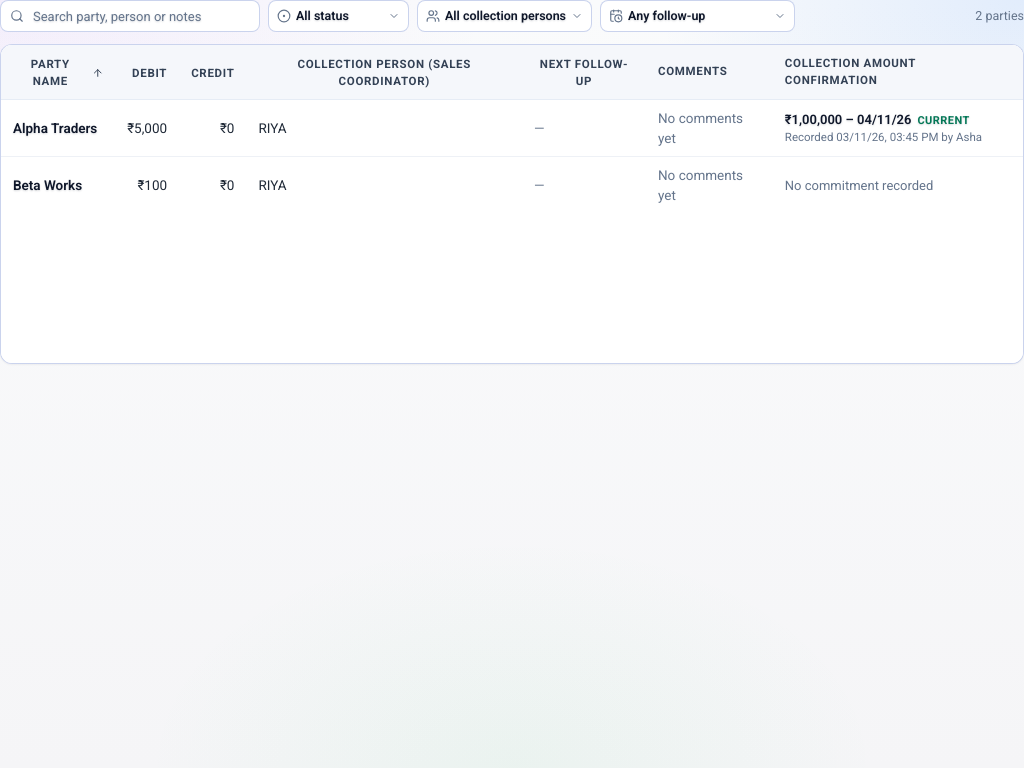
Test: the column and the popup show the same latest record › the Tracker cell and the popup's Commitment History render identical text for the latest commitment
Click the button "Alpha Traders": (55, 128) [13,118,97,138]
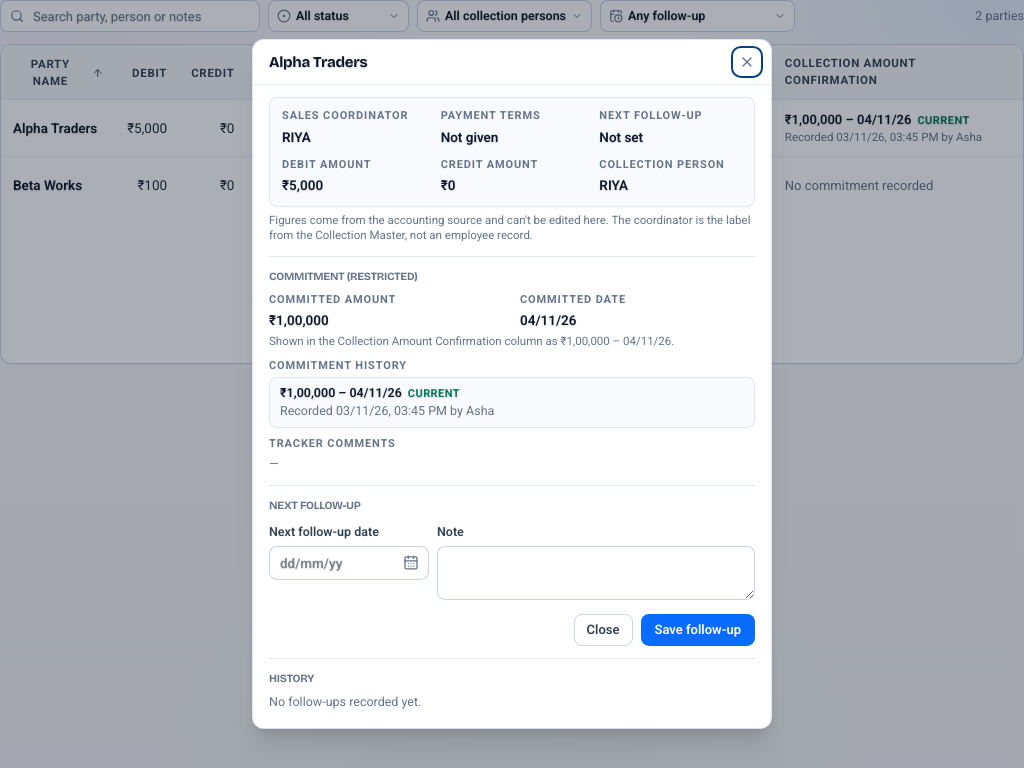
Expected: the element named "Commitment for Alpha Traders" reads "₹1,00,000 – 04/11/26Current Recorded 03/11/26, 03:45 PM by Asha", [785,110,1009,145]
Expected: the list item reads "₹1,00,000 – 04/11/26Current Recorded 03/11/26, 03:45 PM by Asha", [269,377,755,428]
